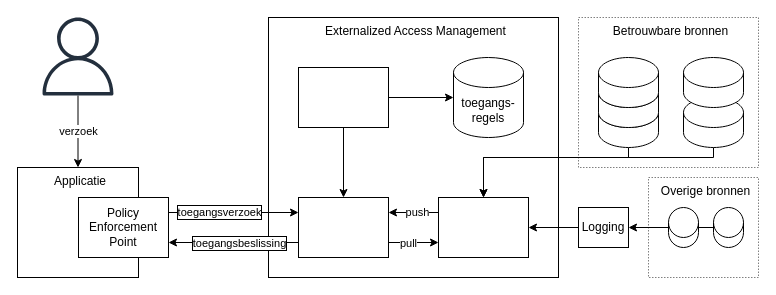
Image size: 776x295. Some labels were removed from this diagram. The centre of each missing label's shape, as x and y in pixels:
"Policy Administration Point" goes at [343,97].
"Policy Decision Point" goes at [343,227].
"Policy Information Point" goes at [483,227].
